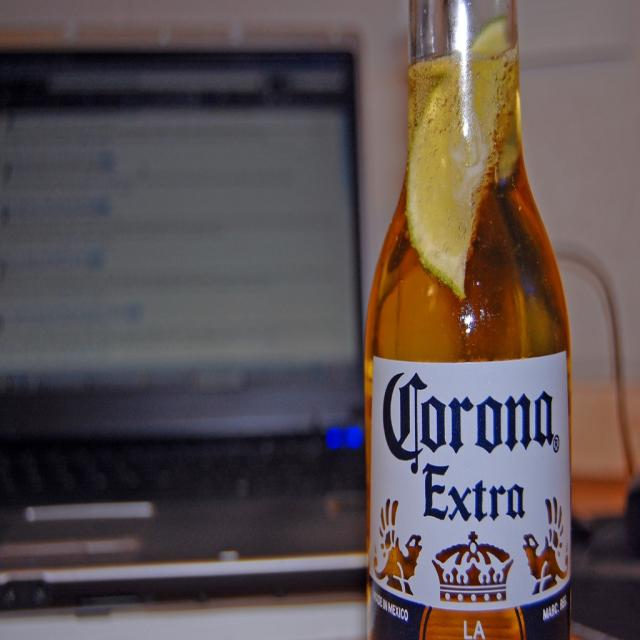corona: (369, 350, 573, 640)
